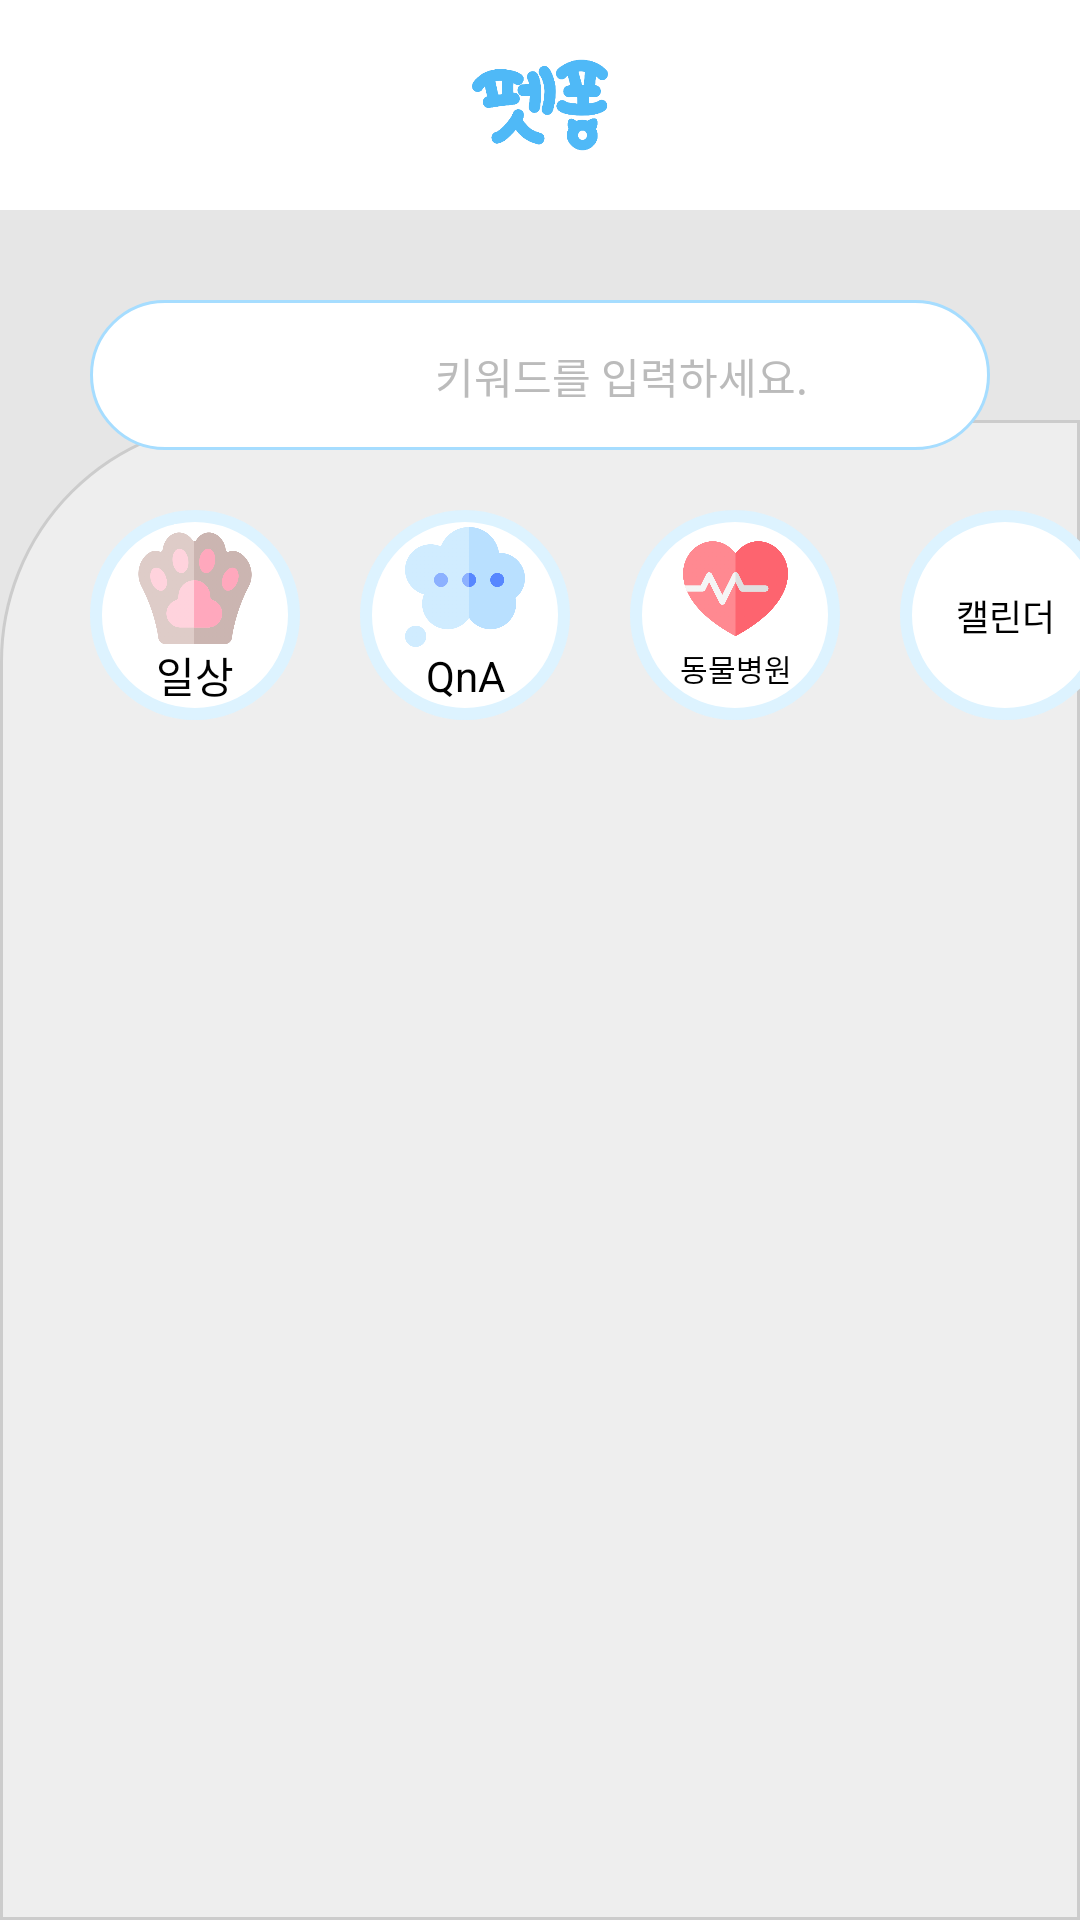

Icons on this 1080 × 1920 Android screen, each with the point to tap as point (x, y):
chat: point (465, 587)
heart: point (735, 588)
pet: point (195, 588)
